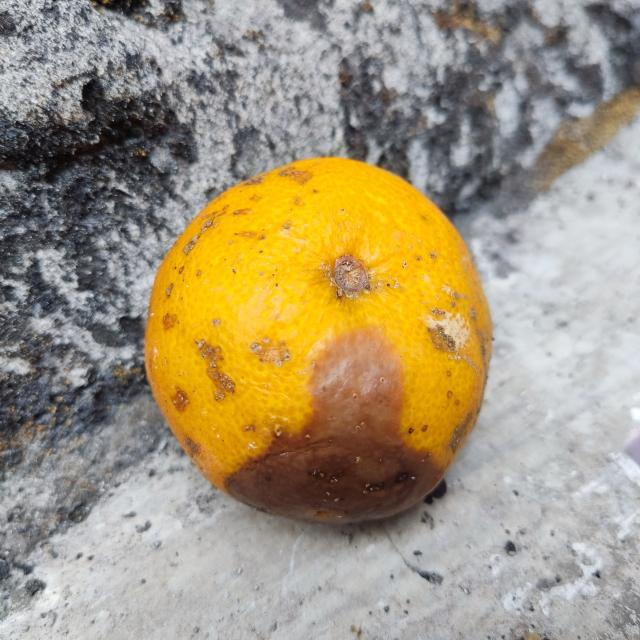orange: (142, 157, 493, 533)
